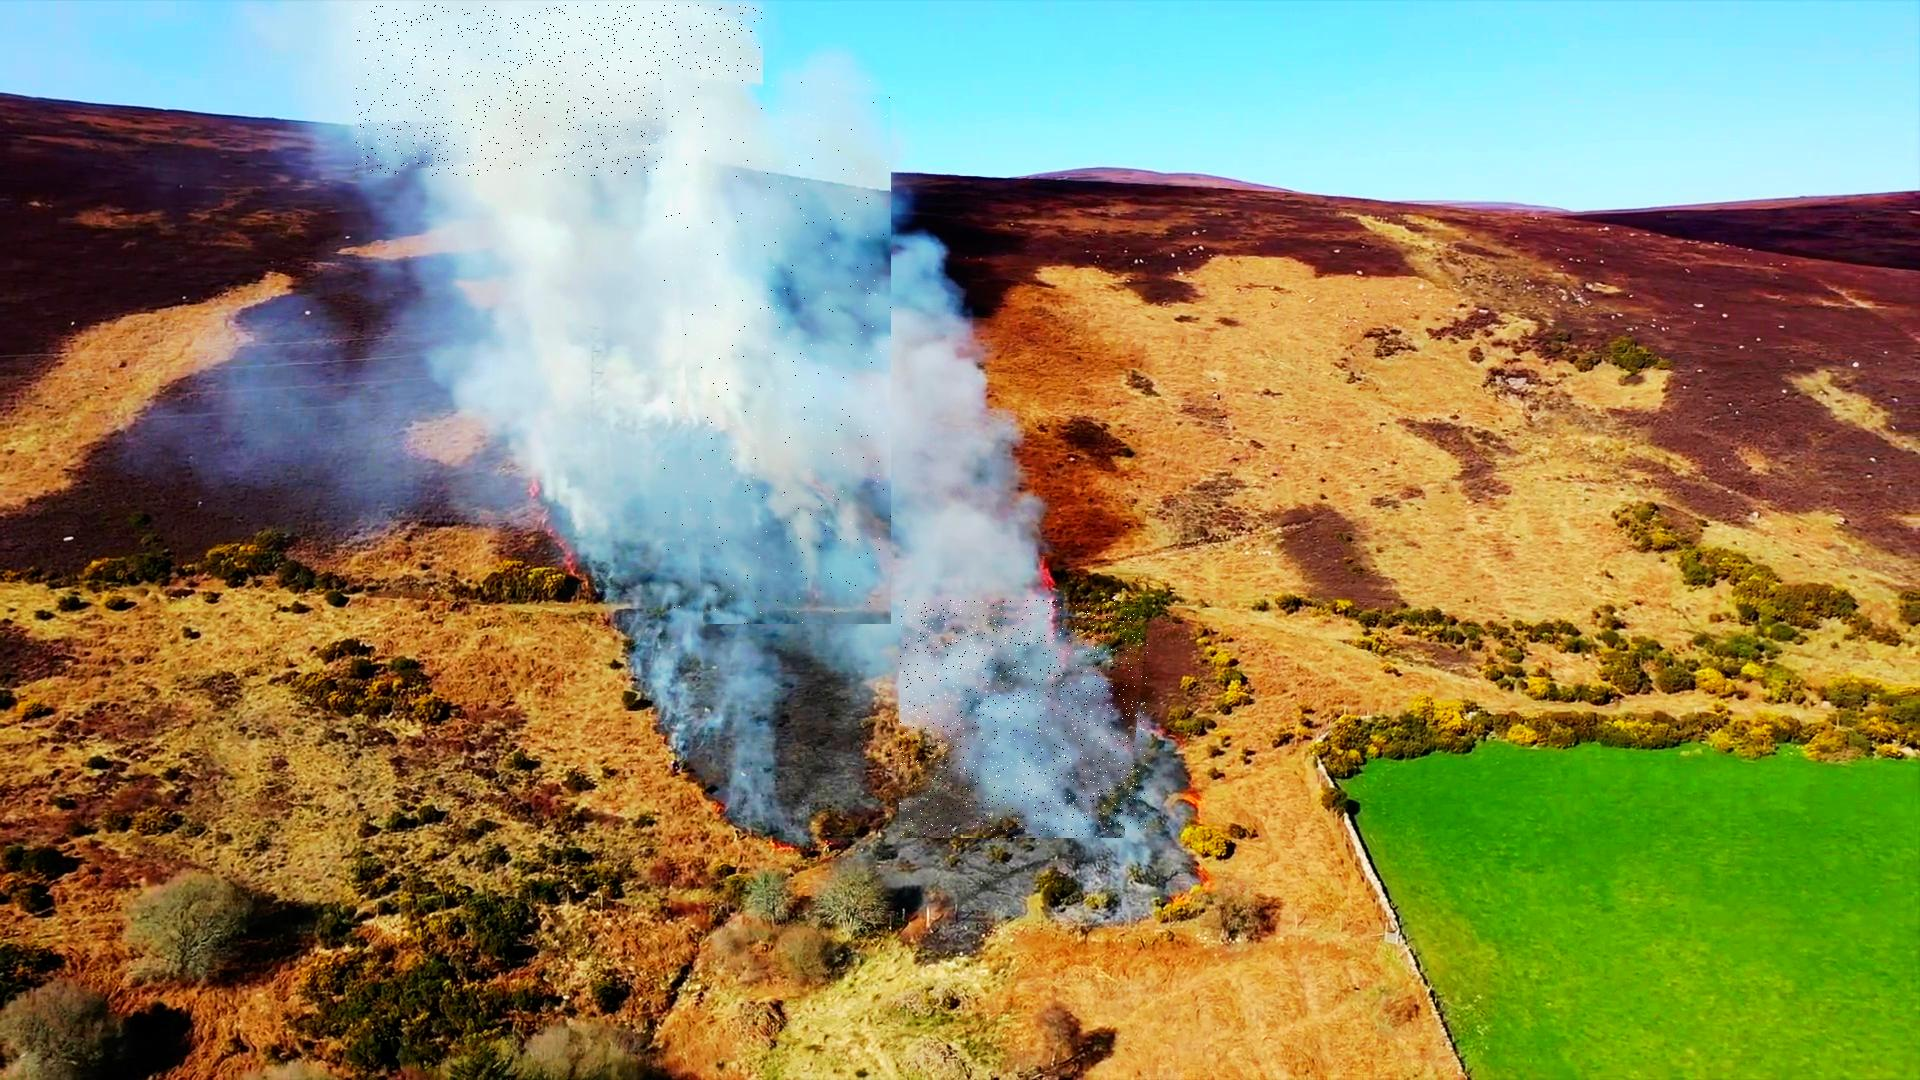smoke: (663, 75, 891, 625), (355, 5, 764, 177), (899, 600, 1149, 839)
